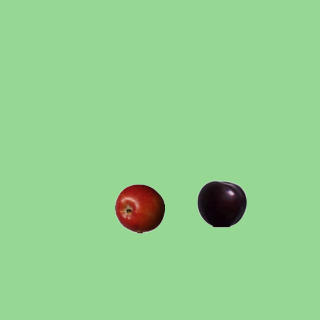Apple Braeburn: (114, 183, 164, 233)
Cherry Wax Black: (196, 178, 246, 228)
